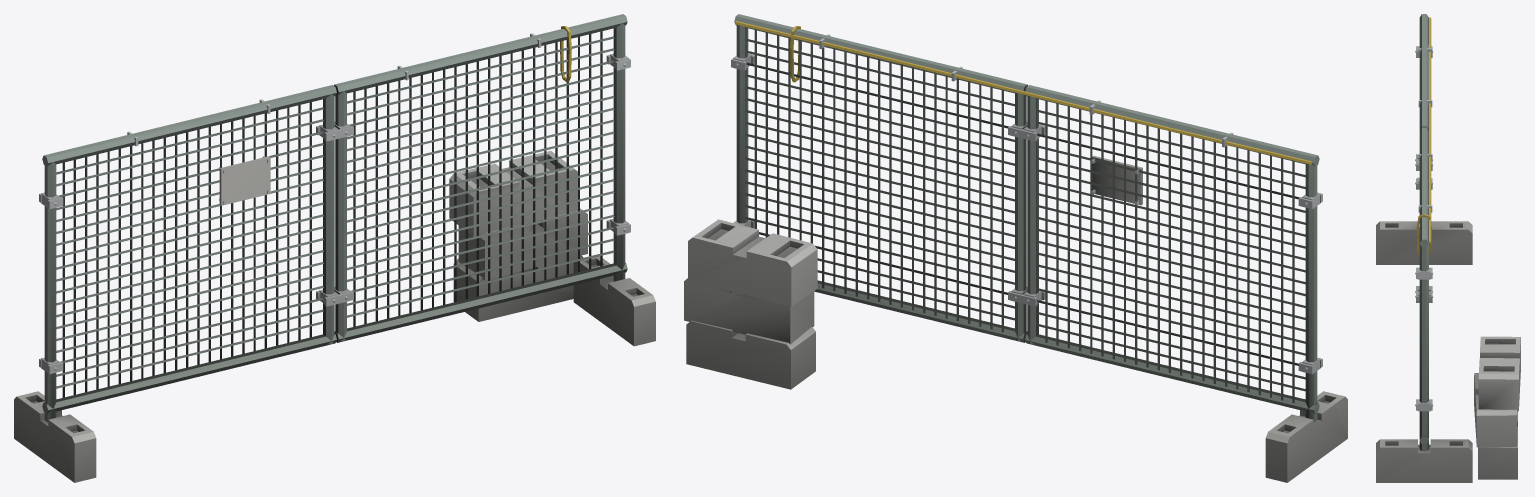
Rendered from fence.glb.
3 views of the same model, side by side, from view 1: azimuth 30°, elevation 25°; view 2: azimuth 150°, elevation 25°; view 3: azimuth 270°, elevation 25° (orthographic). The views are drawn at different scales.
Visible parts, largest first — view 1: fence; view 2: fence; view 3: fence.
Boxes of the visible parts, x1,y1,x2,y2 form: fence: (14, 14, 655, 482); fence: (684, 14, 1347, 482); fence: (1376, 14, 1520, 482).
Size of the model in its own units: 4 by 2.02 by 1.08.
